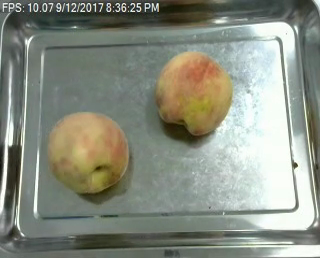Peach: (47, 111, 129, 194), (154, 50, 233, 136)
